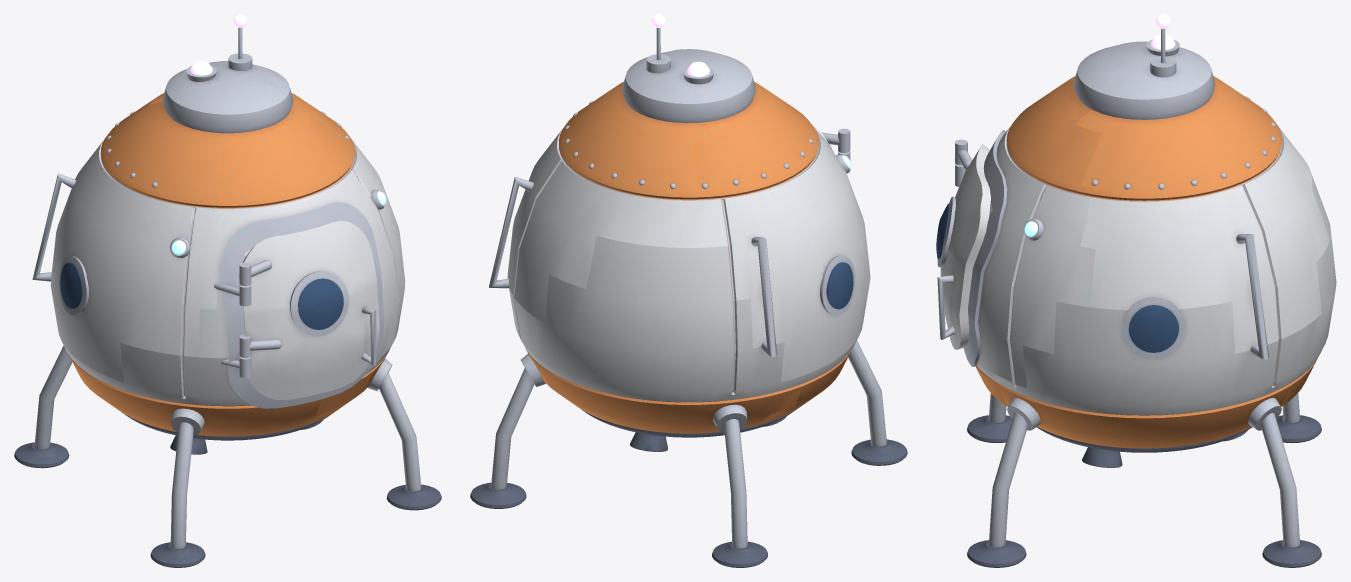
File: capsula_escape.glb
The picture shows the model from 3 angles, left to right: view 1: azimuth 30°, elevation 25°; view 2: azimuth 150°, elevation 25°; view 3: azimuth 270°, elevation 25°; orthographic projection. The views are drawn at different scales.
Parts seen in each view (by area): view 1: escape-pod_beacon_glow; view 2: escape-pod_beacon_glow; view 3: escape-pod_beacon_glow.
Part boxes in pixels (box(x1,y1,x2,y2)): escape-pod_beacon_glow: box(14, 14, 441, 567); escape-pod_beacon_glow: box(470, 14, 907, 567); escape-pod_beacon_glow: box(936, 14, 1336, 567).
Size of the model in its own units: 2.1 by 2.9 by 2.15.
5 materials, 2 textured.
